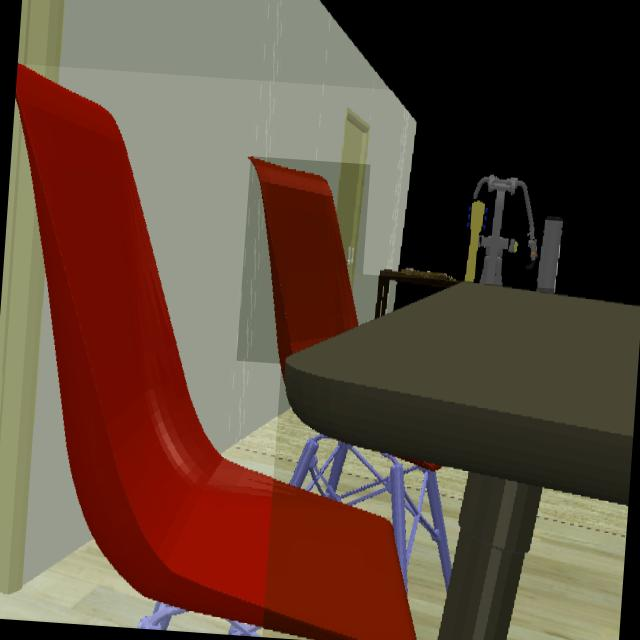chair: (14, 64, 419, 640), (250, 157, 359, 363)
table: (280, 282, 640, 640)
